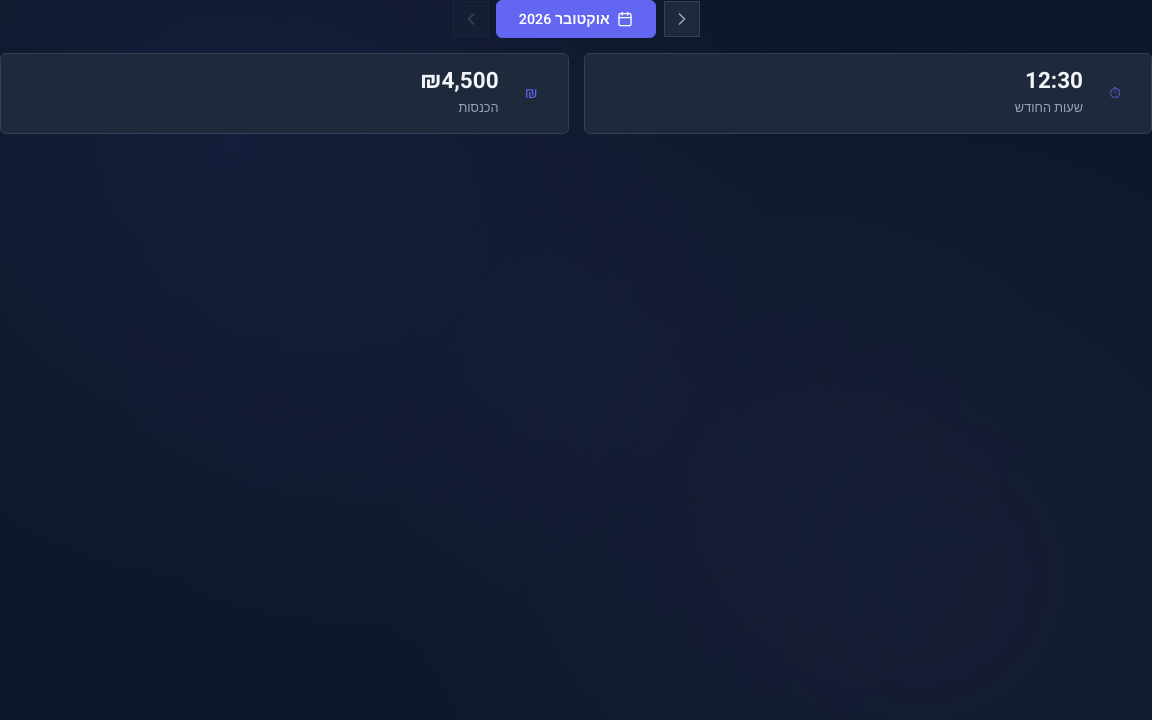
Test: StatsBar - date range modal › disables "apply" while a date is missing
Click the button titled "בחר טווח תאריכים" at (576, 19), box [496, 0, 656, 38]
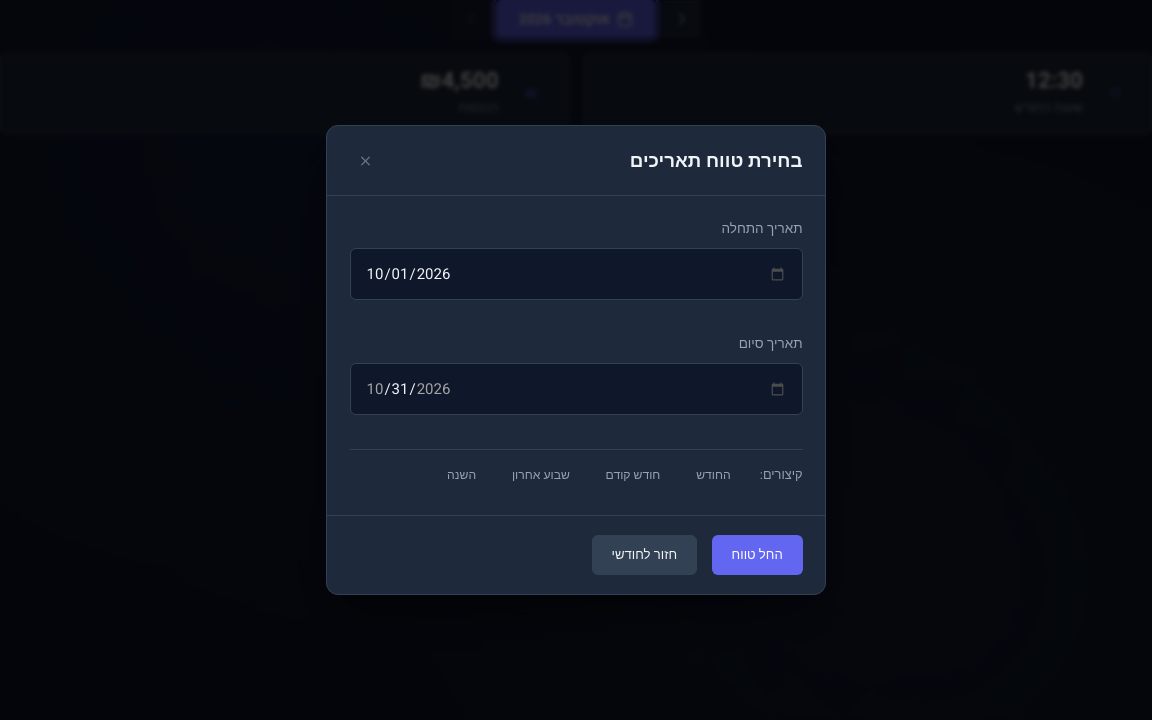
Clear the date field below "תאריך התחלה" at (576, 274), box [350, 248, 802, 300]
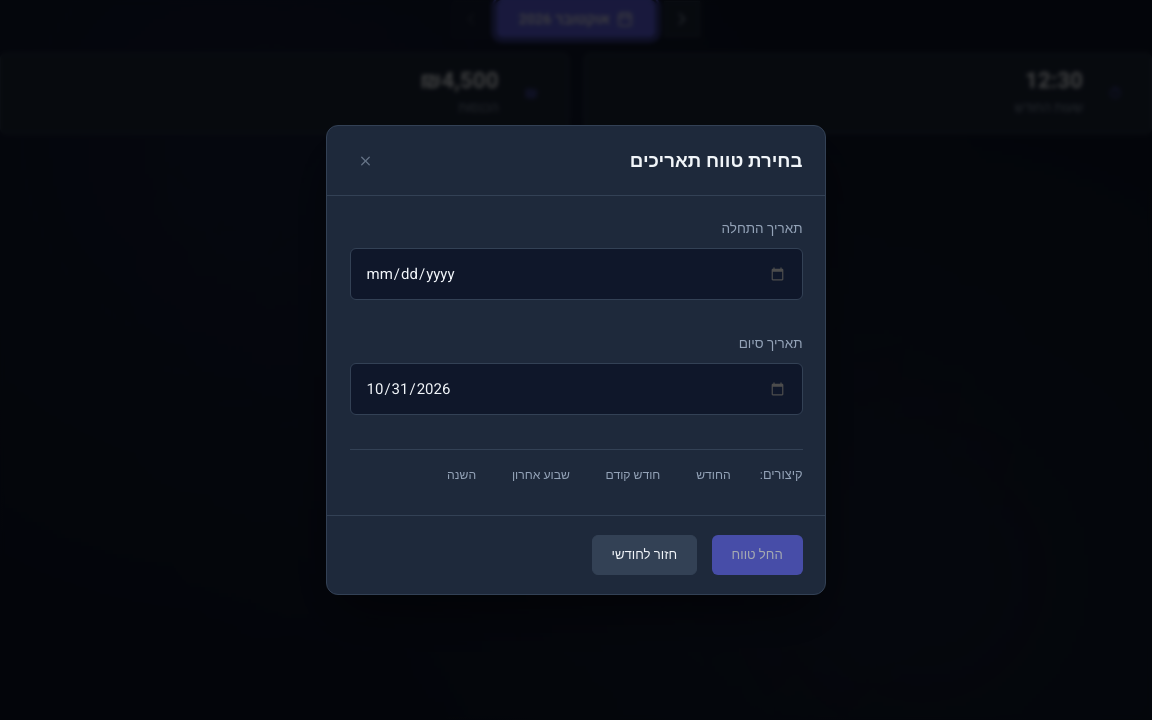
expect the button "החל טווח" is disabled: met, box [712, 535, 802, 576]
